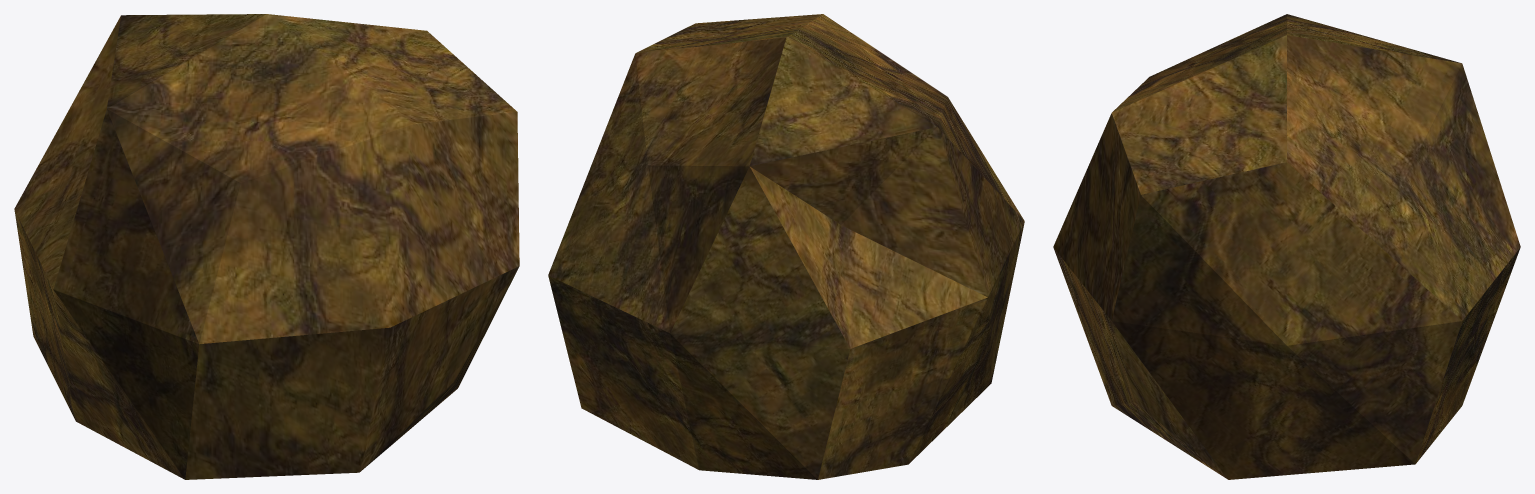
The model's file is asteroid.obj.
The picture shows the model from 3 angles, left to right: view 1: azimuth 30°, elevation 25°; view 2: azimuth 150°, elevation 25°; view 3: azimuth 270°, elevation 25°; orthographic projection. The views are drawn at different scales.
Parts seen in each view (by area): view 1: asteroid; view 2: asteroid; view 3: asteroid.
Part boxes in pixels (x1,y1,x2,y2): asteroid: (14,14,519,479); asteroid: (548,14,1024,479); asteroid: (1053,14,1520,479).
Size of the model in its own units: 6.01 by 6.01 by 6.01.
Materials: 1 (1 with a texture image).
